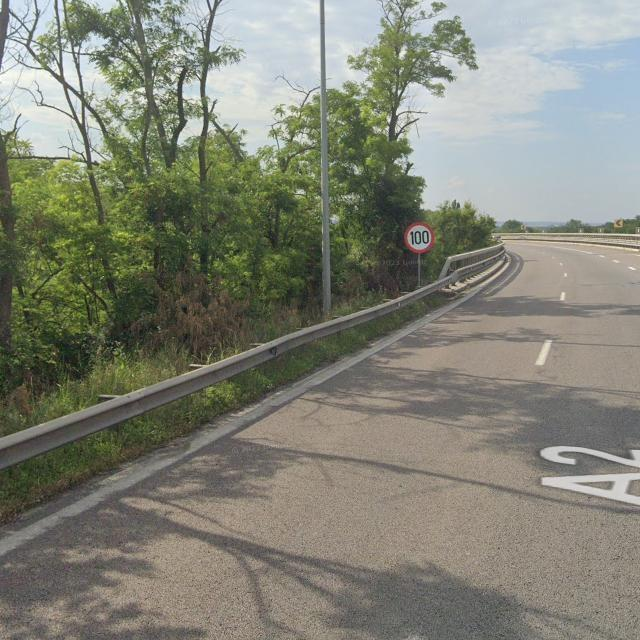forb_speed_over_100: (405, 222, 435, 253)
